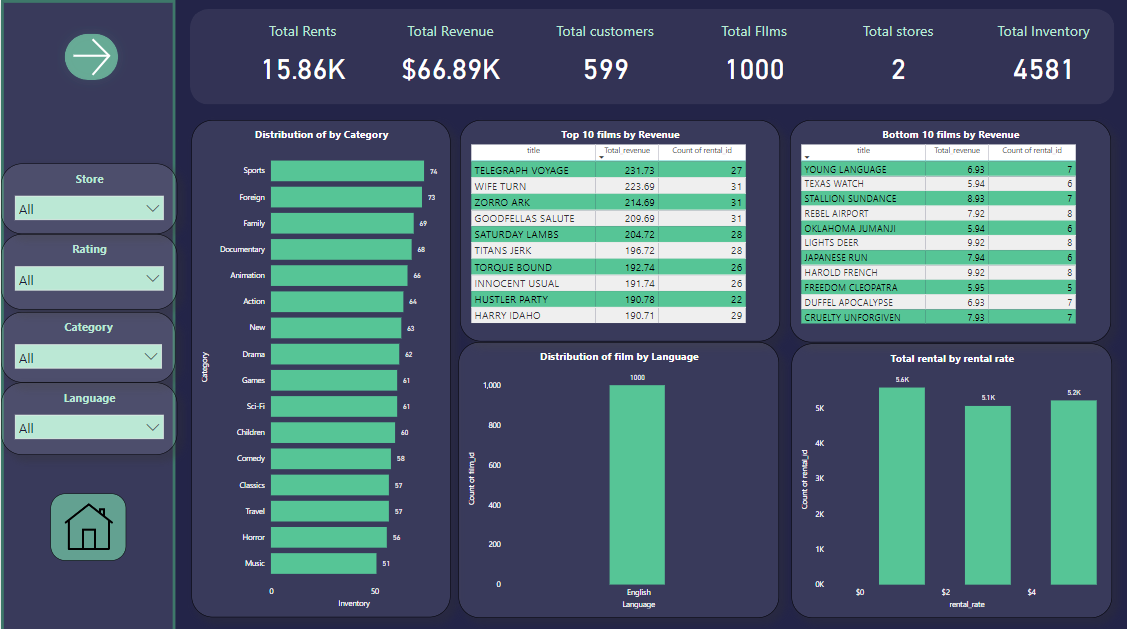

The dashboard page shown, as its layout file describes it:
{"tool":"powerbi","page":{"name":"FILM ANALYSIS","canvas":[1600,900],"ordinal":4},"visuals":[{"type":"shape","box":[0,0,247.5,900],"z":0},{"type":"shape","box":[268.9,13.3,1311.1,135.6],"z":1000},{"type":"card","title":"Total FIlms","fields":{"Values":["CountNonNull(sakila film.film_id)"]},"box":[966.7,28.9,204.4,100],"z":2000},{"type":"card","title":"Total Rents","fields":{"Values":["Count(sakila rental.rental_id)"]},"box":[326.7,28.9,200,100],"z":3000},{"type":"card","title":"Total Revenue","fields":{"Values":["Sum(sakila payment.amount)"]},"box":[526.7,28.9,220,100],"z":4000},{"type":"card","title":"Total stores","fields":{"Values":["Count(sakila store.store_id)"]},"box":[1171.1,28.9,204.4,100],"z":5000},{"type":"card","title":"Total customers","fields":{"Values":["CountNonNull(sakila customer.customer_id)"]},"box":[746.7,28.9,220,100],"z":6000},{"type":"slicer","title":"Store","fields":{"Values":["sakila store.Store Country"]},"box":[0,232.5,250,100],"z":7000},{"type":"slicer","title":"Rating","fields":{"Values":["sakila film.rating"]},"box":[0,332.5,250,107.5],"z":8000},{"type":"slicer","title":"Category","fields":{"Values":["sakila film.Category_name"]},"box":[0,442.5,247.5,100],"z":9000},{"type":"card","title":"Total Inventory","fields":{"Values":["Count(sakila inventory.inventory_id)"]},"box":[1375.6,28.9,204.4,100],"z":10000},{"type":"slicer","title":"Language","fields":{"Values":["sakila film.Language"]},"box":[0,542.5,250,102.5],"z":11000},{"type":"clusteredBarChart","title":"Distribution of by Category","fields":{"Category":["sakila film.Category_name"],"Y":["CountNonNull(sakila film.film_id)"]},"box":[270.2,170.9,367.5,705.3],"z":12000},{"type":"tableEx","title":"Top 10 films by Revenue","fields":{"Values":["sakila film.title","sakila payment.Total_revenue","sakila rental.rental_id"]},"box":[650,170,454,314],"z":13000},{"type":"tableEx","title":"Bottom 10 films by Revenue","fields":{"Values":["sakila film.title","sakila payment.Total_revenue","sakila rental.rental_id"]},"box":[1120,170,455,315],"z":14000},{"type":"actionButton","box":[75,32.5,107.5,97.5],"z":15000},{"type":"image","box":[70,700,107.5,95],"z":16000},{"type":"clusteredColumnChart","title":"Distribution of film by Language","fields":{"Category":["sakila film.Language"],"Y":["CountNonNull(sakila film.film_id)"]},"box":[649.7,484.8,455,391.4],"z":17000},{"type":"clusteredColumnChart","title":"Total rental by rental rate","fields":{"Category":["sakila film.rental_rate"],"Y":["CountNonNull(sakila rental.rental_id)"]},"box":[1120.5,486.8,455,389.4],"z":18000}]}

Visuals, with their boxes in screenshot pixels (x1, y1, x2, y2), scaled from the page's 1600x900 canvas onto the 1127x629 screenshot:
shape: select_region(0, 0, 174, 628)
shape: select_region(189, 9, 1113, 104)
"Total FIlms" card: select_region(681, 20, 825, 90)
"Total Rents" card: select_region(230, 20, 371, 90)
"Total Revenue" card: select_region(371, 20, 526, 90)
"Total stores" card: select_region(825, 20, 969, 90)
"Total customers" card: select_region(526, 20, 681, 90)
"Store" slicer: select_region(0, 162, 176, 232)
"Rating" slicer: select_region(0, 232, 176, 308)
"Category" slicer: select_region(0, 309, 174, 379)
"Total Inventory" card: select_region(969, 20, 1113, 90)
"Language" slicer: select_region(0, 379, 176, 451)
"Distribution of by Category" clusteredBarChart: select_region(190, 119, 449, 612)
"Top 10 films by Revenue" tableEx: select_region(458, 119, 778, 338)
"Bottom 10 films by Revenue" tableEx: select_region(789, 119, 1109, 339)
actionButton: select_region(53, 23, 129, 91)
image: select_region(49, 489, 125, 556)
"Distribution of film by Language" clusteredColumnChart: select_region(458, 339, 778, 612)
"Total rental by rental rate" clusteredColumnChart: select_region(789, 340, 1110, 612)
